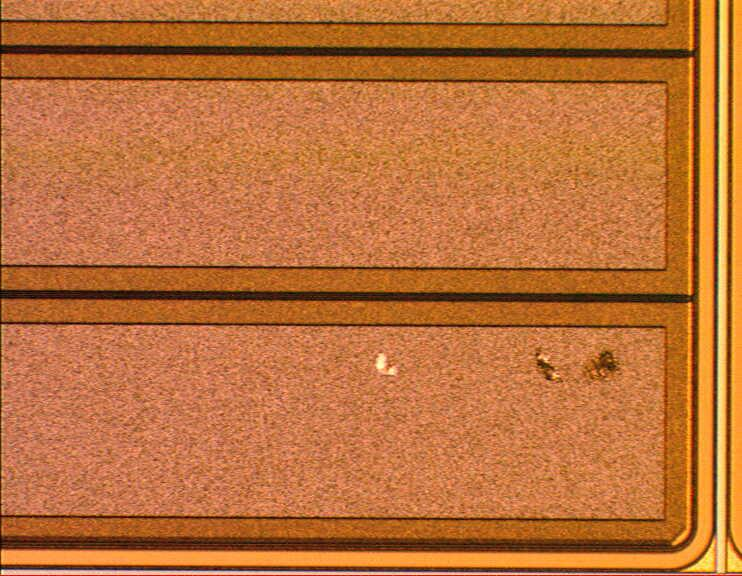SCRATCH: (362, 341, 644, 392)
